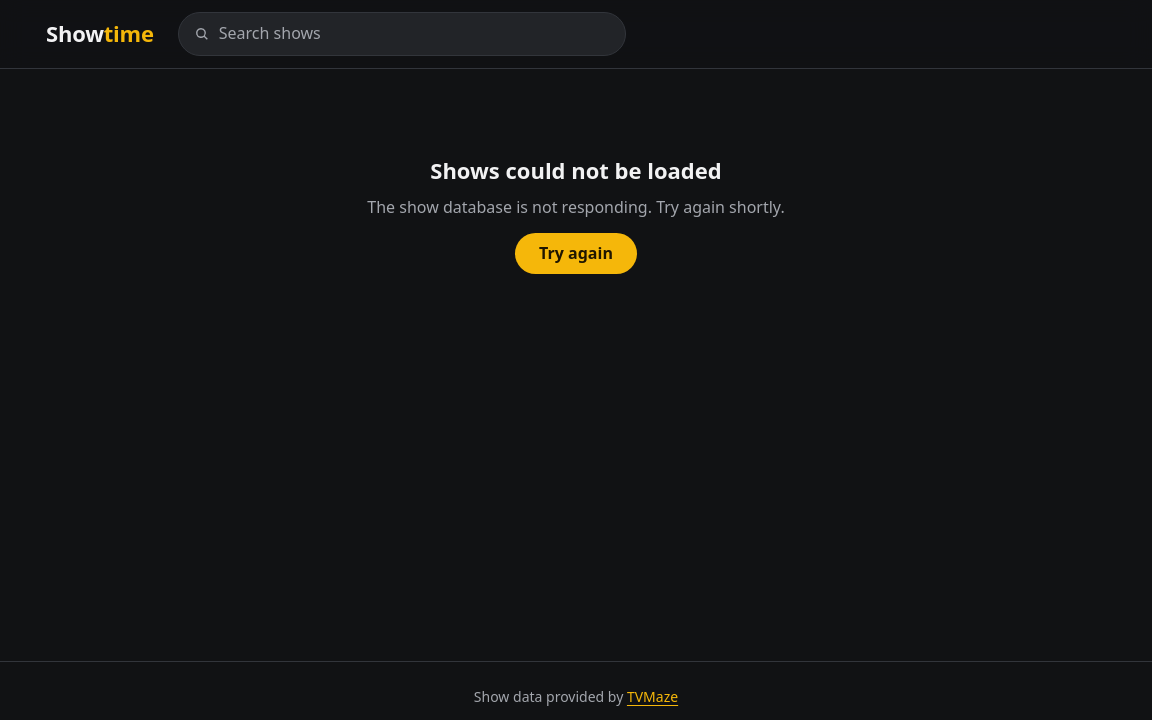
Test: dashboard › explains a failure in the server’s words and recovers on "Try again"
The image size is (1152, 720).
Expected: the message shows "The show database is not responding. Try again shortly.", [367, 196, 785, 218]
Click the button "Try again" at (576, 253), box [515, 233, 637, 274]
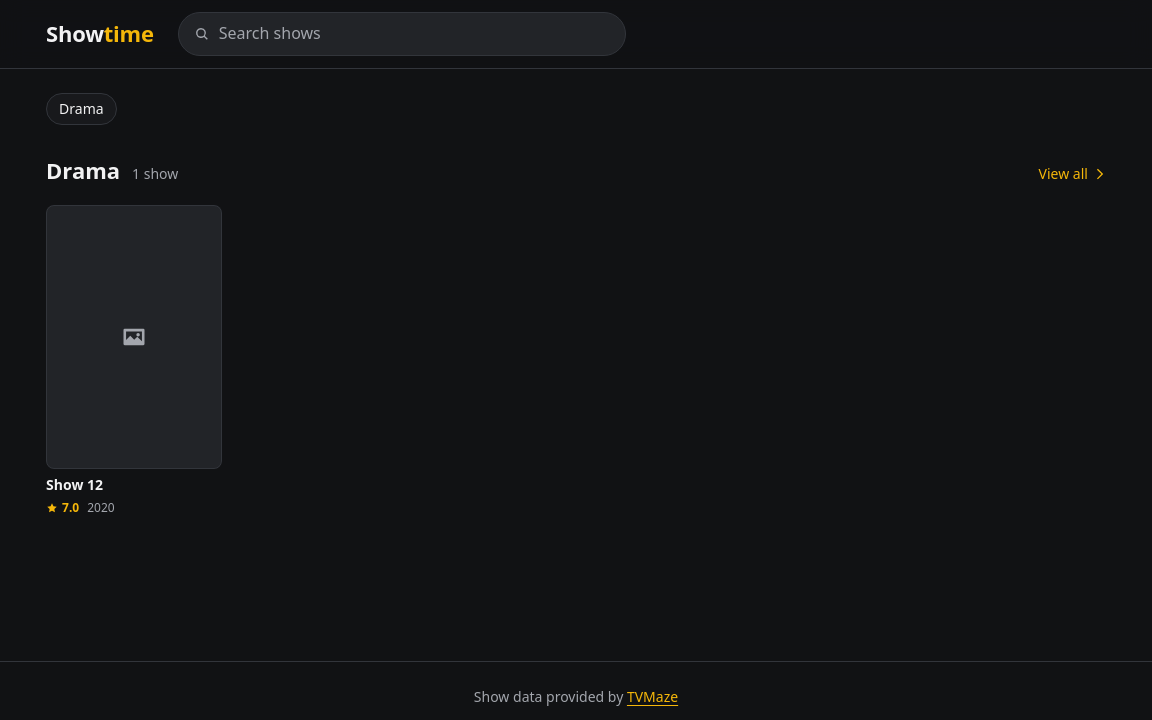
Now the number of elements with test id "genre-row" is 1, box [46, 157, 1106, 525]
